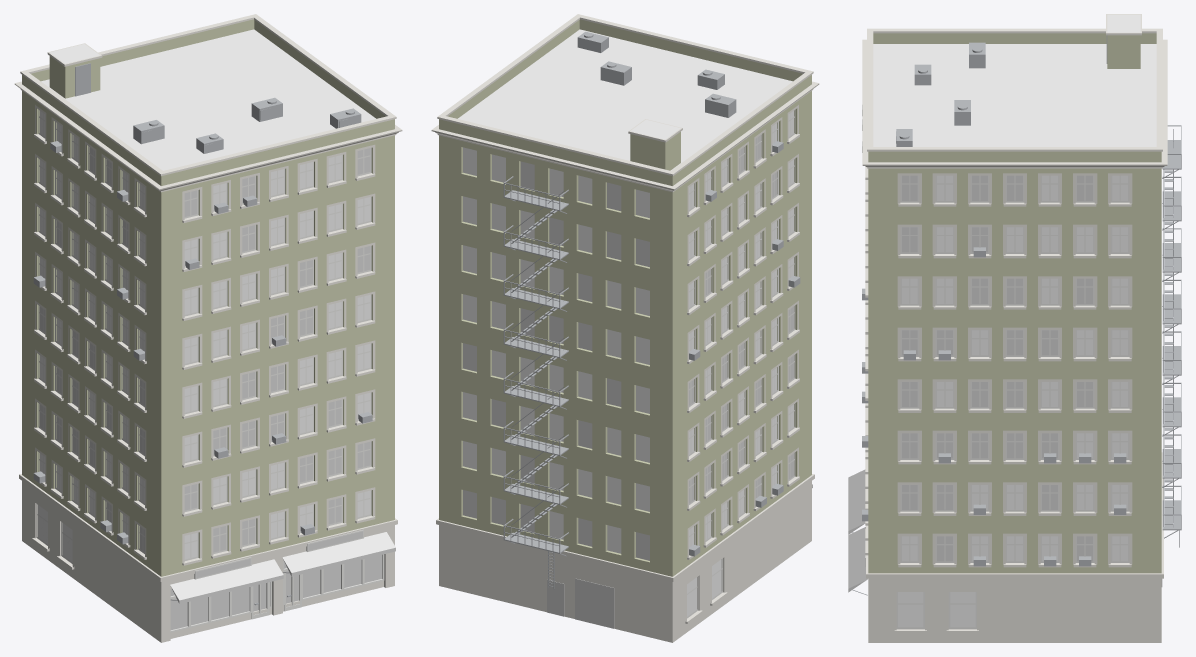
File: midtown_w60f8.glb
3 views of the same model, side by side, from view 1: azimuth 30°, elevation 25°; view 2: azimuth 150°, elevation 25°; view 3: azimuth 270°, elevation 25° (orthographic). The views are drawn at different scales.
Visible parts, largest first — view 1: midtown_w60f8_Walls, midtown_w60f8_Trim, midtown_w60f8_Roof, midtown_w60f8_Glass, midtown_w60f8_Frames, midtown_w60f8_WindowsLit, midtown_w60f8_Details, midtown_w60f8_Awning, midtown_w60f8_Sign; view 2: midtown_w60f8_Walls, midtown_w60f8_Trim, midtown_w60f8_Roof, midtown_w60f8_Glass, midtown_w60f8_Details, midtown_w60f8_WindowsLit, midtown_w60f8_Frames, midtown_w60f8_Doors; view 3: midtown_w60f8_Walls, midtown_w60f8_Trim, midtown_w60f8_Roof, midtown_w60f8_Frames, midtown_w60f8_Glass, midtown_w60f8_WindowsLit, midtown_w60f8_Details, midtown_w60f8_Awning.
Boxes of the visible parts, x1,y1,x2,y2 form: midtown_w60f8_Walls: [22, 19, 394, 576]; midtown_w60f8_Trim: [14, 14, 402, 642]; midtown_w60f8_Roof: [41, 29, 375, 170]; midtown_w60f8_Glass: [38, 111, 370, 562]; midtown_w60f8_Frames: [36, 110, 384, 632]; midtown_w60f8_WindowsLit: [39, 147, 382, 630]; midtown_w60f8_Details: [33, 63, 372, 605]; midtown_w60f8_Awning: [170, 532, 395, 603]; midtown_w60f8_Sign: [196, 531, 362, 578]; midtown_w60f8_Walls: [439, 19, 811, 576]; midtown_w60f8_Trim: [431, 14, 819, 642]; midtown_w60f8_Roof: [458, 29, 792, 170]; midtown_w60f8_Glass: [463, 111, 793, 616]; midtown_w60f8_Details: [503, 31, 800, 588]; midtown_w60f8_WindowsLit: [463, 135, 794, 560]; midtown_w60f8_Frames: [687, 110, 795, 618]; midtown_w60f8_Doors: [547, 578, 614, 628]; midtown_w60f8_Walls: [868, 33, 1161, 573]; midtown_w60f8_Trim: [862, 14, 1167, 642]; midtown_w60f8_Roof: [873, 14, 1156, 146]; midtown_w60f8_Frames: [865, 175, 1129, 629]; midtown_w60f8_Glass: [898, 175, 1127, 627]; midtown_w60f8_WindowsLit: [902, 175, 1092, 561]; midtown_w60f8_Details: [852, 35, 1181, 595]; midtown_w60f8_Awning: [848, 469, 867, 592].
Size of the model in its own units: 62.6 by 121 by 70.4.
